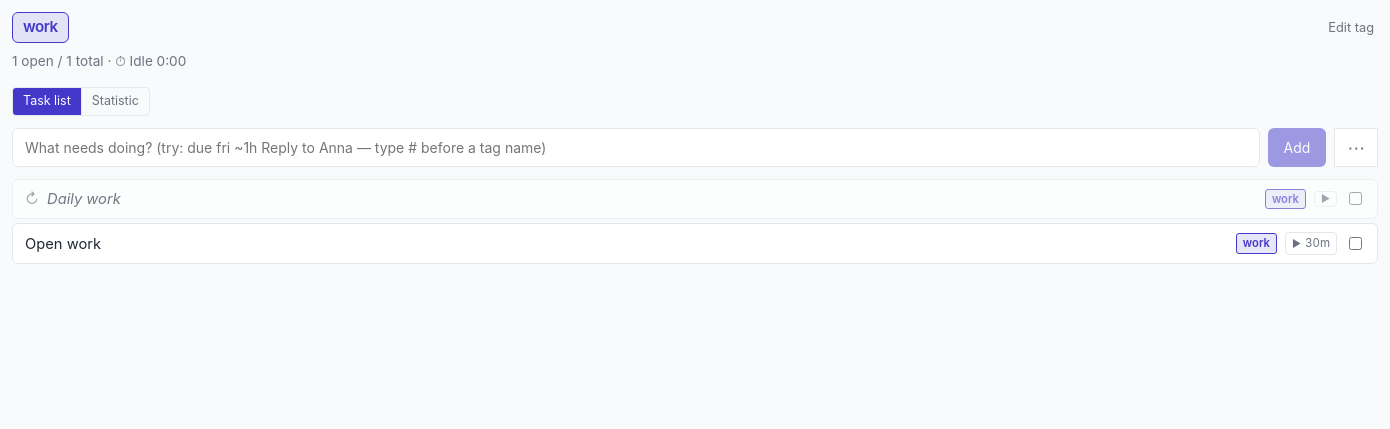
Test: TagView tabs › shows tag heatmap statistics including completed and recurring tagged work
Click the tab "Statistic" at (115, 102), box [81, 88, 149, 115]
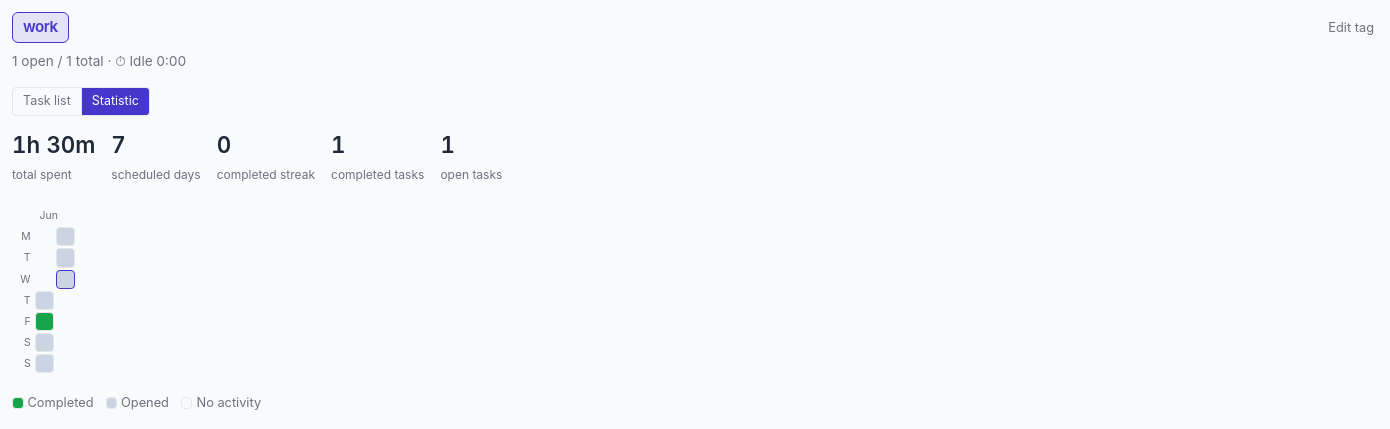
expect the text "1h 30m" is shown: met, box [12, 128, 95, 162]
expect the text "total spent" is shown: met, box [12, 166, 72, 182]
expect the text "7" is shown: met, box [111, 131, 126, 158]
